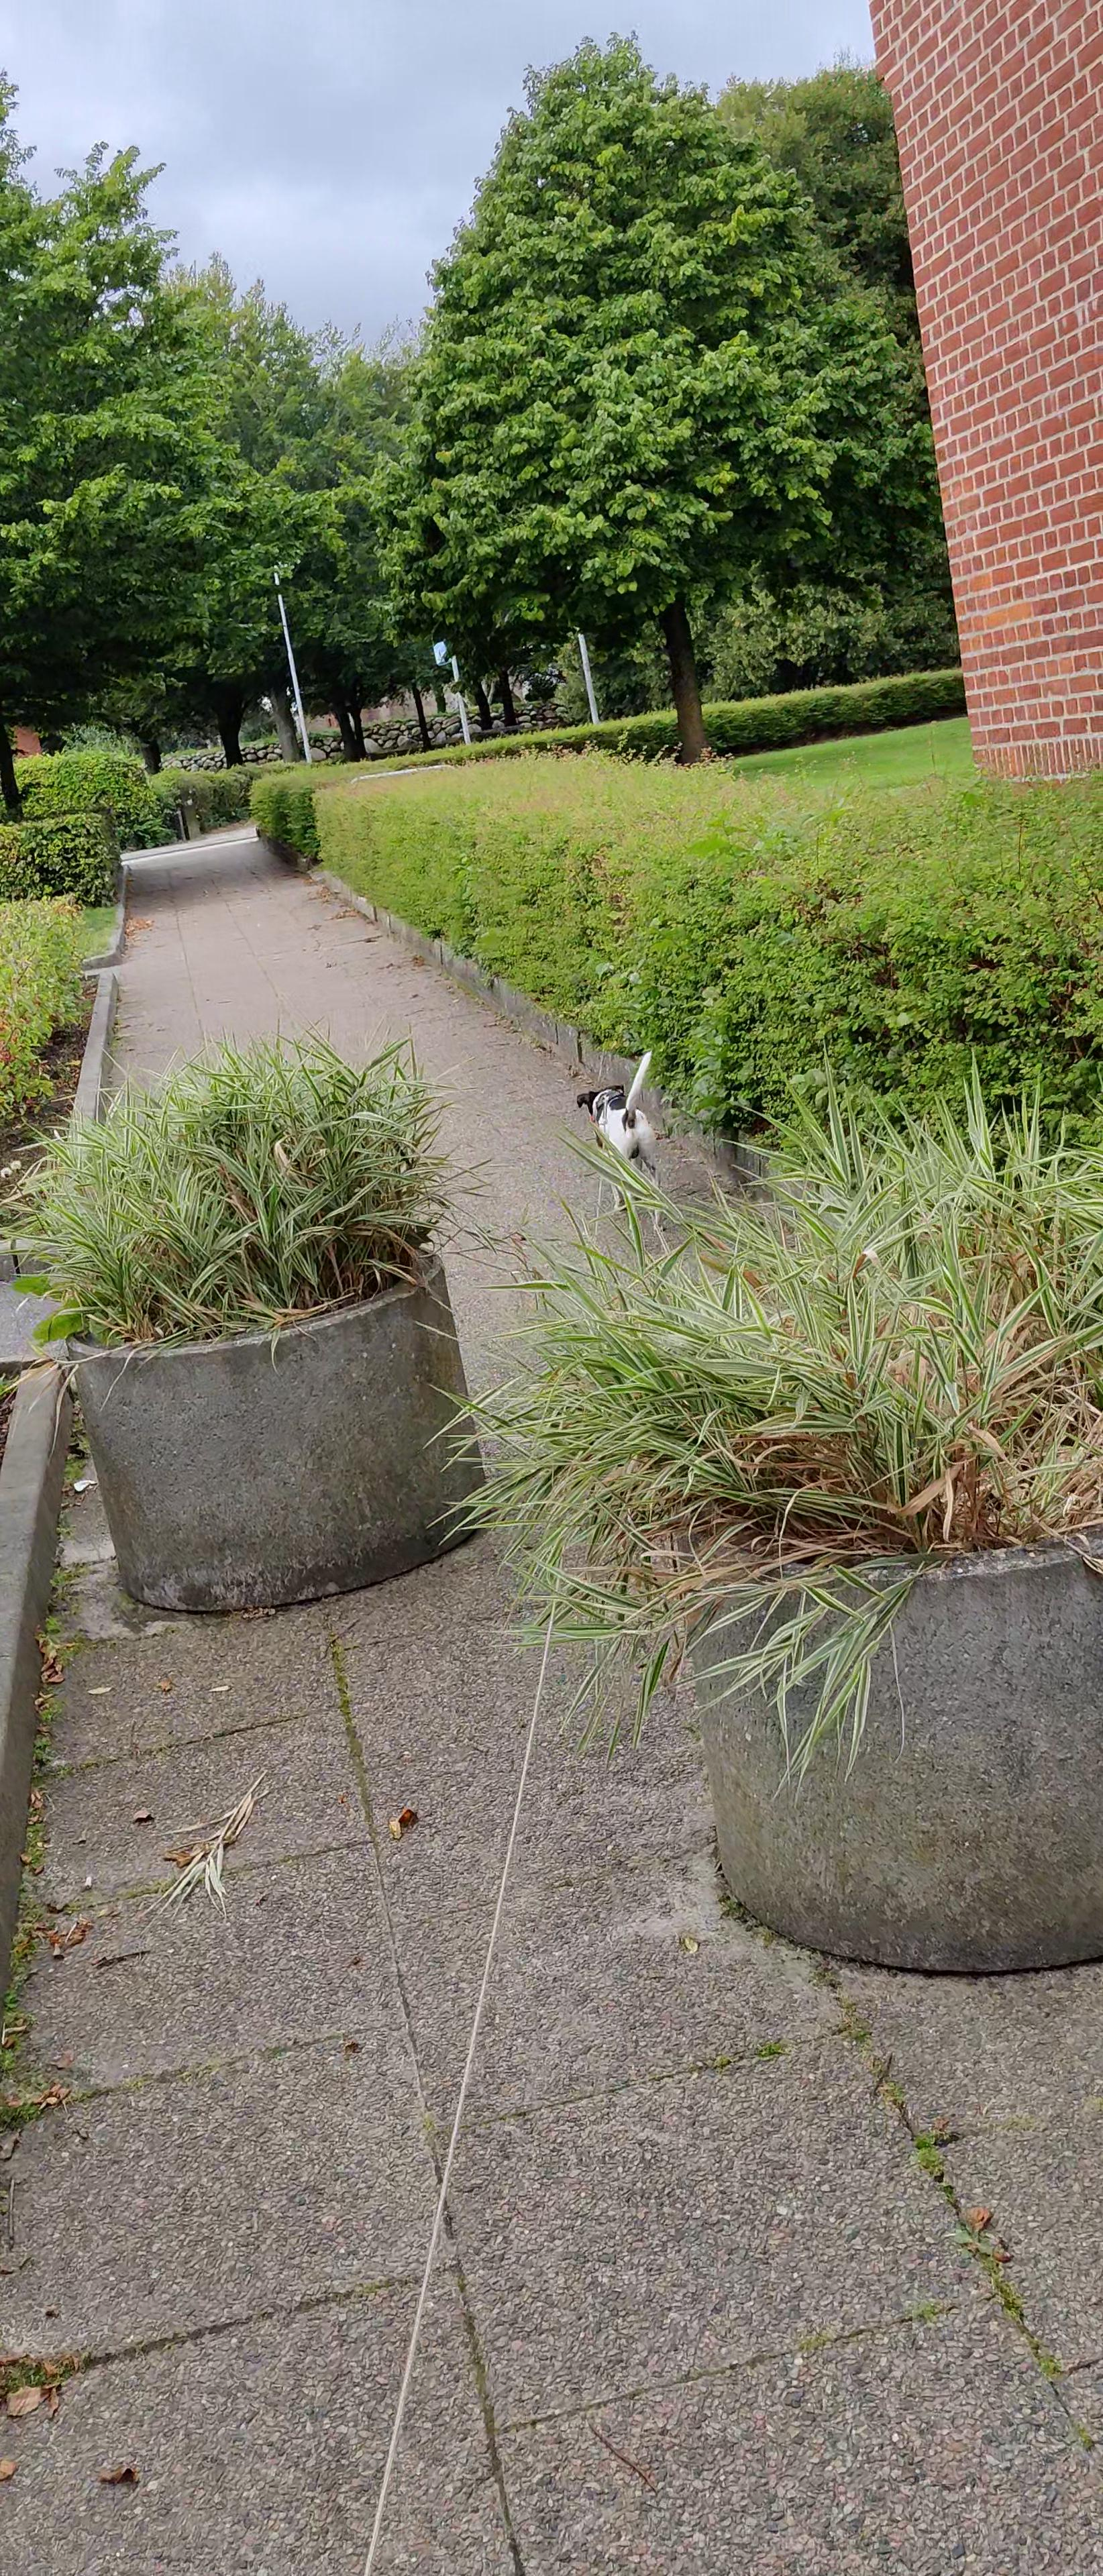Dog: (572, 1045, 669, 1239)
